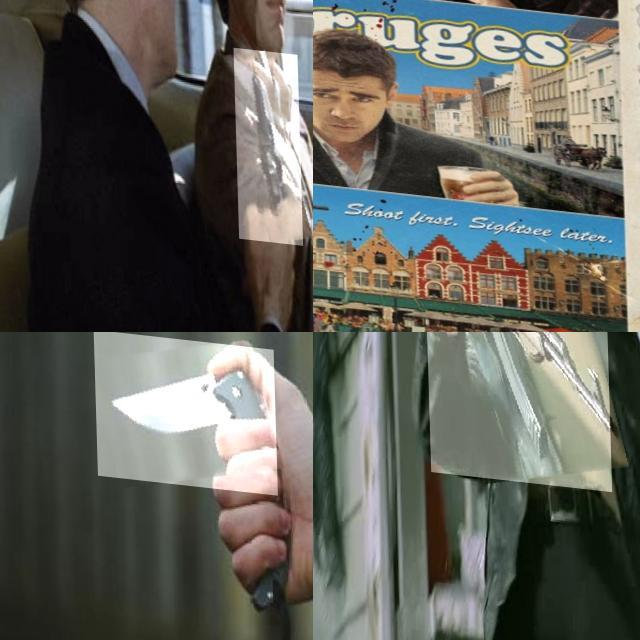-: (92, 332, 275, 488)
gun-knife-thesis - v11 Yolov5 augmented: (421, 332, 610, 501), (372, 0, 565, 93), (232, 40, 300, 236), (313, 43, 354, 148), (313, 189, 352, 219)
